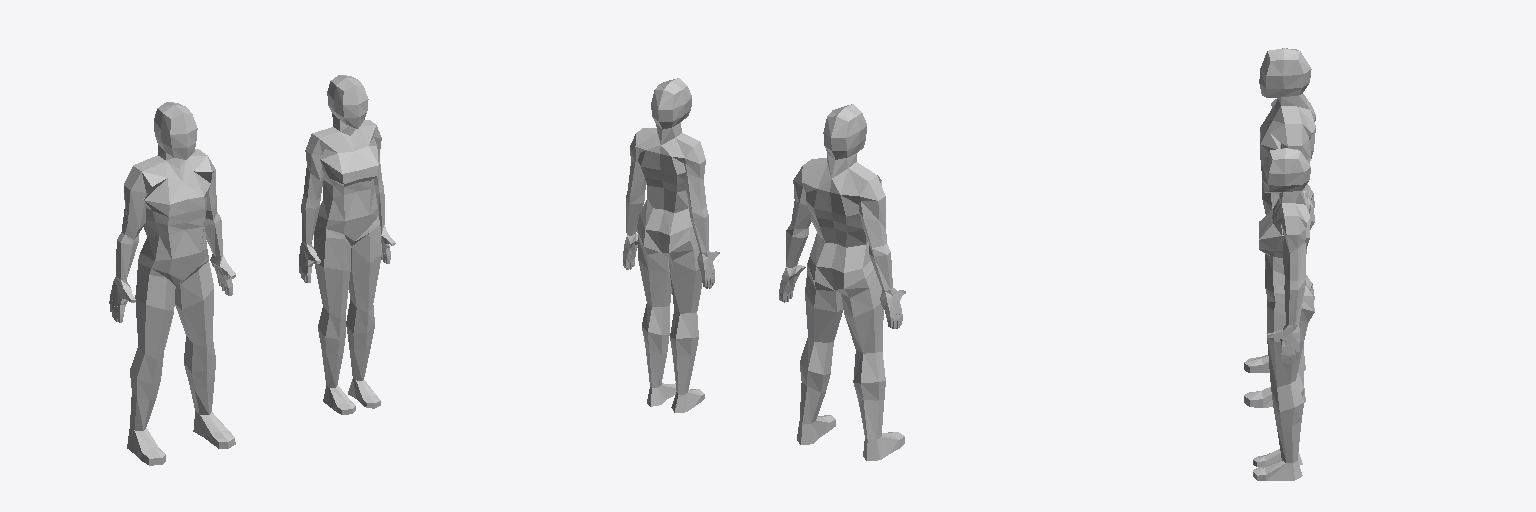
File: human.obj
3 views of the same model, side by side, from view 1: azimuth 30°, elevation 25°; view 2: azimuth 150°, elevation 25°; view 3: azimuth 270°, elevation 25° (orthographic).
Visible parts, largest first — view 1: HumanMale_meHumanMale.001, HumanFemale_meHumanFemale; view 2: HumanMale_meHumanMale.001, HumanFemale_meHumanFemale; view 3: HumanFemale_meHumanFemale, HumanMale_meHumanMale.001.
Boxes of the visible parts, x1,y1,x2,y2 form: HumanMale_meHumanMale.001: [109, 102, 235, 465]; HumanFemale_meHumanFemale: [299, 75, 395, 414]; HumanMale_meHumanMale.001: [779, 104, 905, 460]; HumanFemale_meHumanFemale: [623, 78, 719, 412]; HumanFemale_meHumanFemale: [1253, 148, 1314, 480]; HumanMale_meHumanMale.001: [1244, 48, 1315, 407].
Size of the model in its own units: 1.57 by 1.87 by 0.3618.